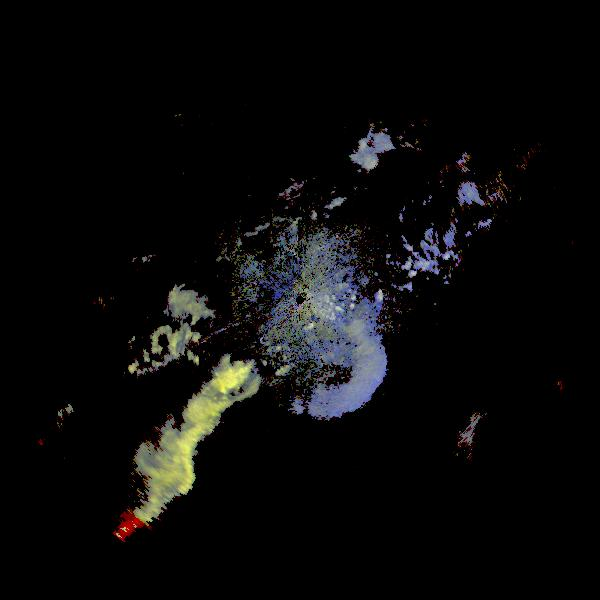roost: (228, 268, 405, 445), (452, 407, 524, 479)
